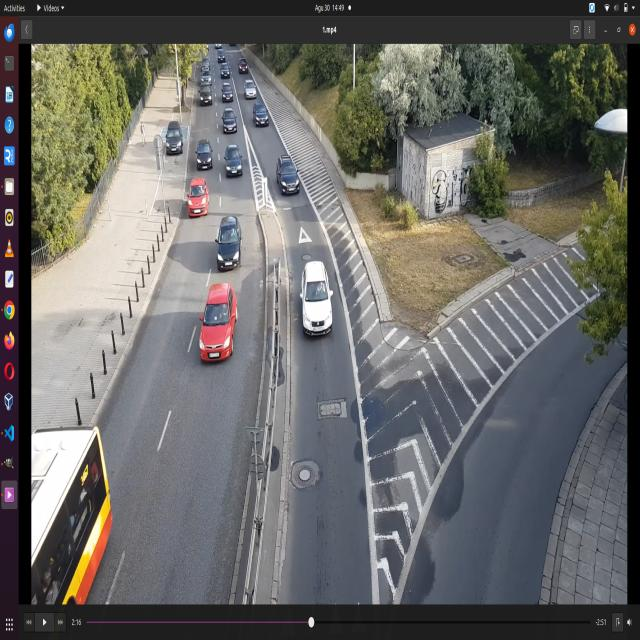person_with_seatbelt: (317, 277, 326, 298), (228, 228, 238, 244), (198, 182, 205, 198)
